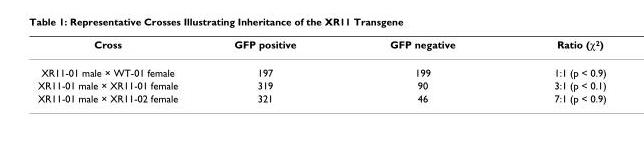table: (36, 37, 605, 103)
table column: (36, 37, 205, 103), (342, 37, 504, 103), (205, 37, 342, 103), (504, 37, 605, 103)
table column header: (36, 37, 605, 58)
table row: (36, 37, 605, 58), (36, 58, 605, 78), (36, 78, 605, 91), (36, 91, 605, 103)
